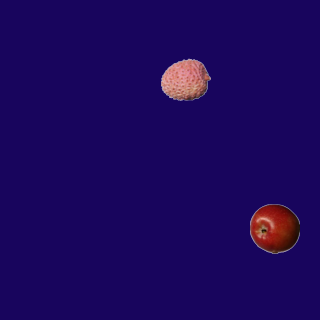Apple Braeburn: (249, 203, 299, 253)
Lychee: (160, 54, 210, 104)
